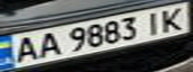3: (118, 15, 142, 42)
8: (84, 20, 106, 48), (103, 18, 124, 46)
9: (63, 24, 87, 53)
A: (6, 34, 42, 64), (33, 29, 63, 58)
I: (139, 8, 169, 35)
K: (154, 4, 193, 33)
